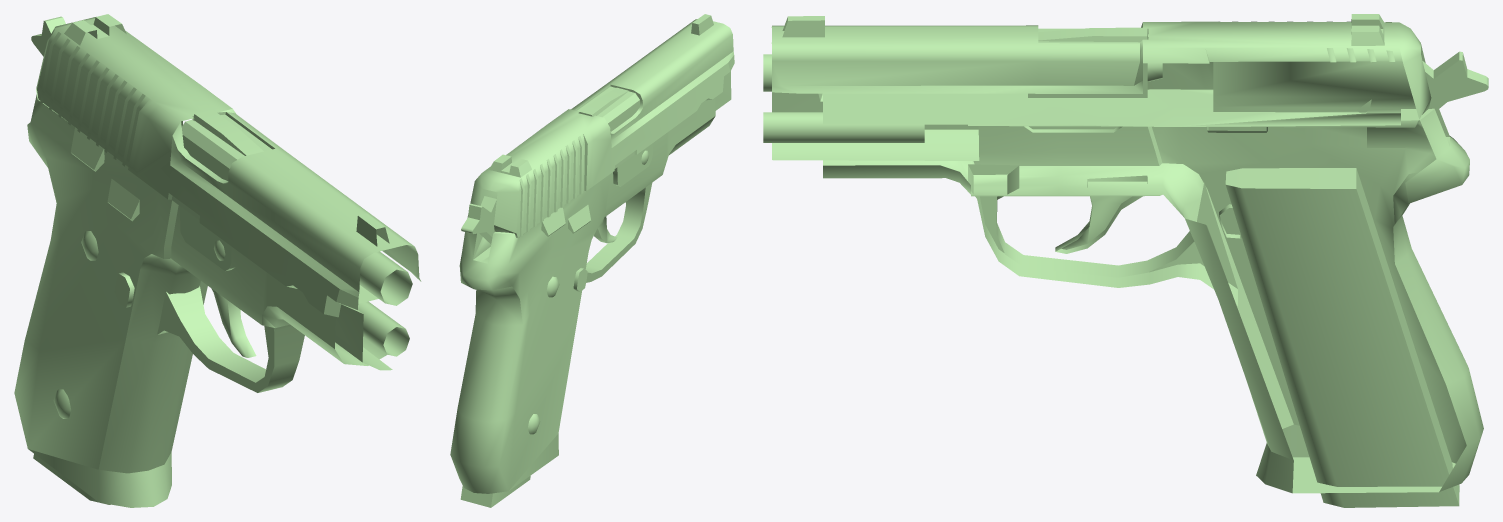
The picture shows the model from 3 angles, left to right: view 1: azimuth 30°, elevation 25°; view 2: azimuth 150°, elevation 25°; view 3: azimuth 270°, elevation 25°; orthographic projection. The views are drawn at different scales.
Parts seen in each view (by area): view 1: p228_reference; view 2: p228_reference; view 3: p228_reference.
Part boxes in pixels (x1,y1,x2,y2): p228_reference: (14,14,421,507); p228_reference: (450,14,734,507); p228_reference: (763,14,1488,507).
Size of the model in its own units: 86.72 by 473 by 653.
